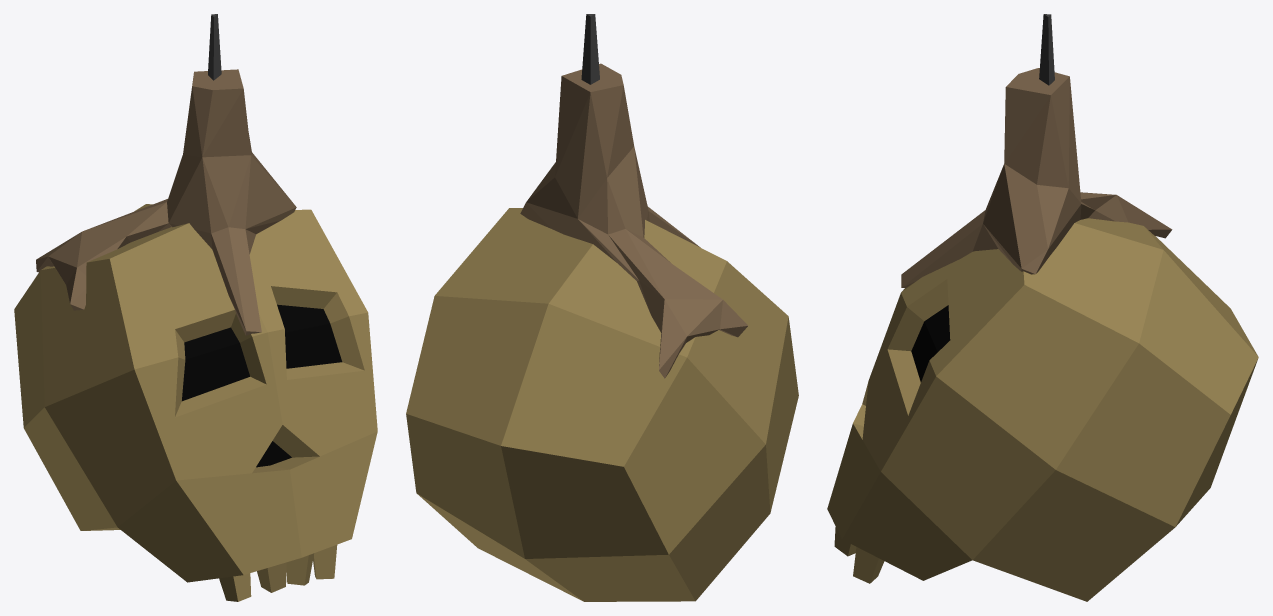
Rendered from SkullCandle.fbx.
3 views of the same model, side by side, from view 1: azimuth 30°, elevation 25°; view 2: azimuth 150°, elevation 25°; view 3: azimuth 270°, elevation 25° (orthographic). The views are drawn at different scales.
Parts seen in each view (by area): view 1: SkullCandle; view 2: SkullCandle; view 3: SkullCandle.
Boxes of the visible parts, x1,y1,x2,y2 form: SkullCandle: (14, 14, 377, 601); SkullCandle: (406, 14, 798, 601); SkullCandle: (827, 14, 1258, 601).
Size of the model in its own units: 29.17 by 48.34 by 33.36.
